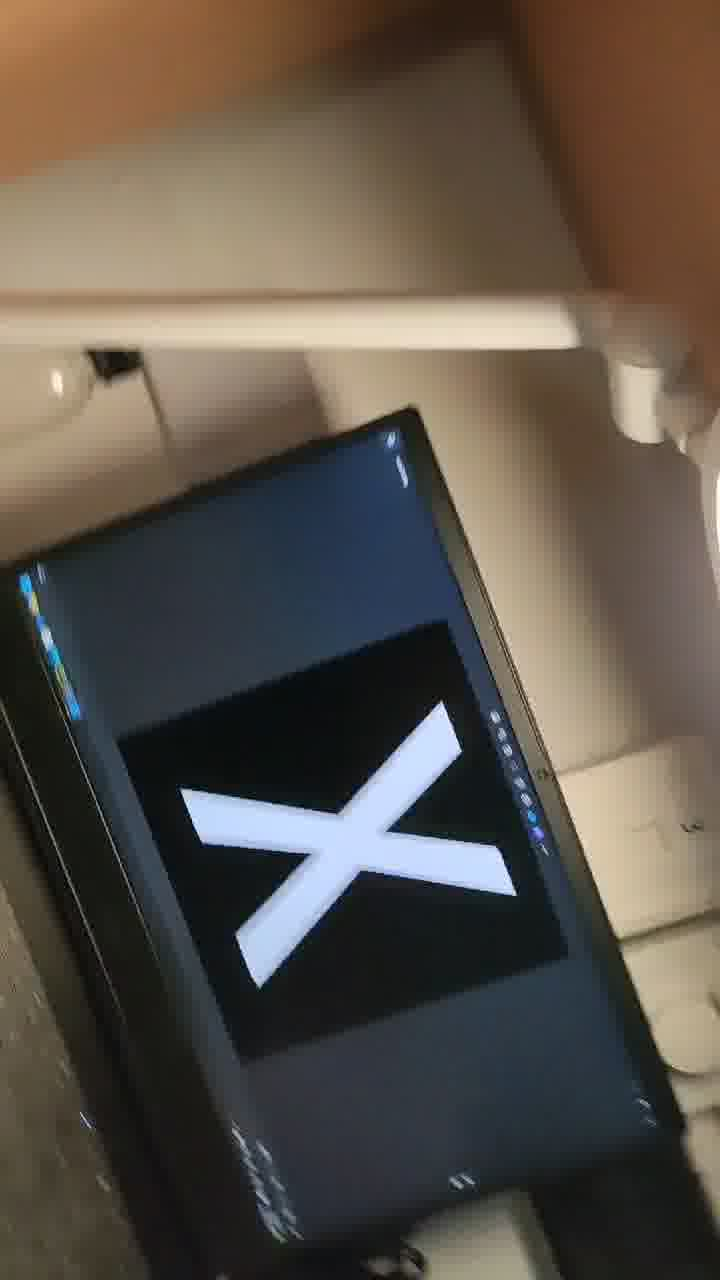X: (176, 623, 597, 1078)
